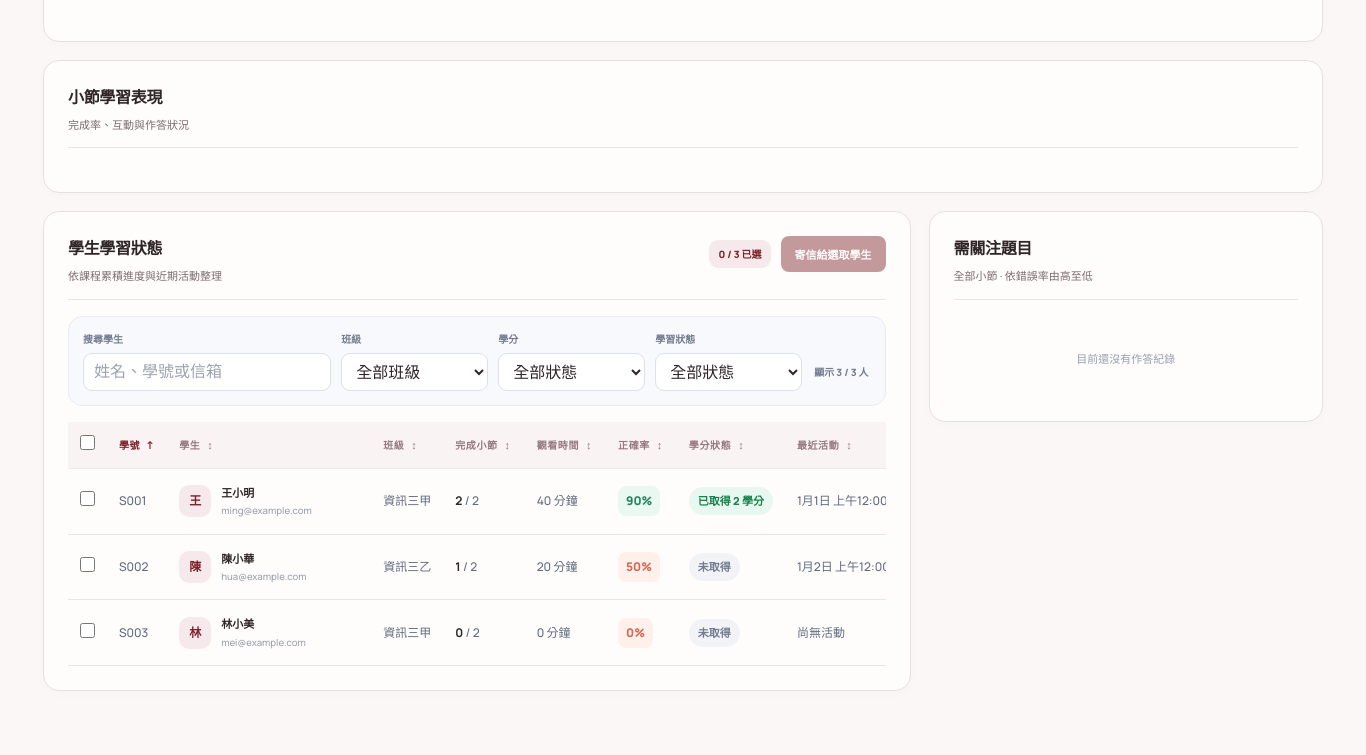
Scenario: filters students by class, credit status, learning status, and keyword
(page scrolled)
Expected: the text "王小明" is shown, [221,485,254,500]
Select "資訊三甲" in the dropdown labelled "班級". click: [415, 372]
box: [341,353,488,391]
(page scrolled)
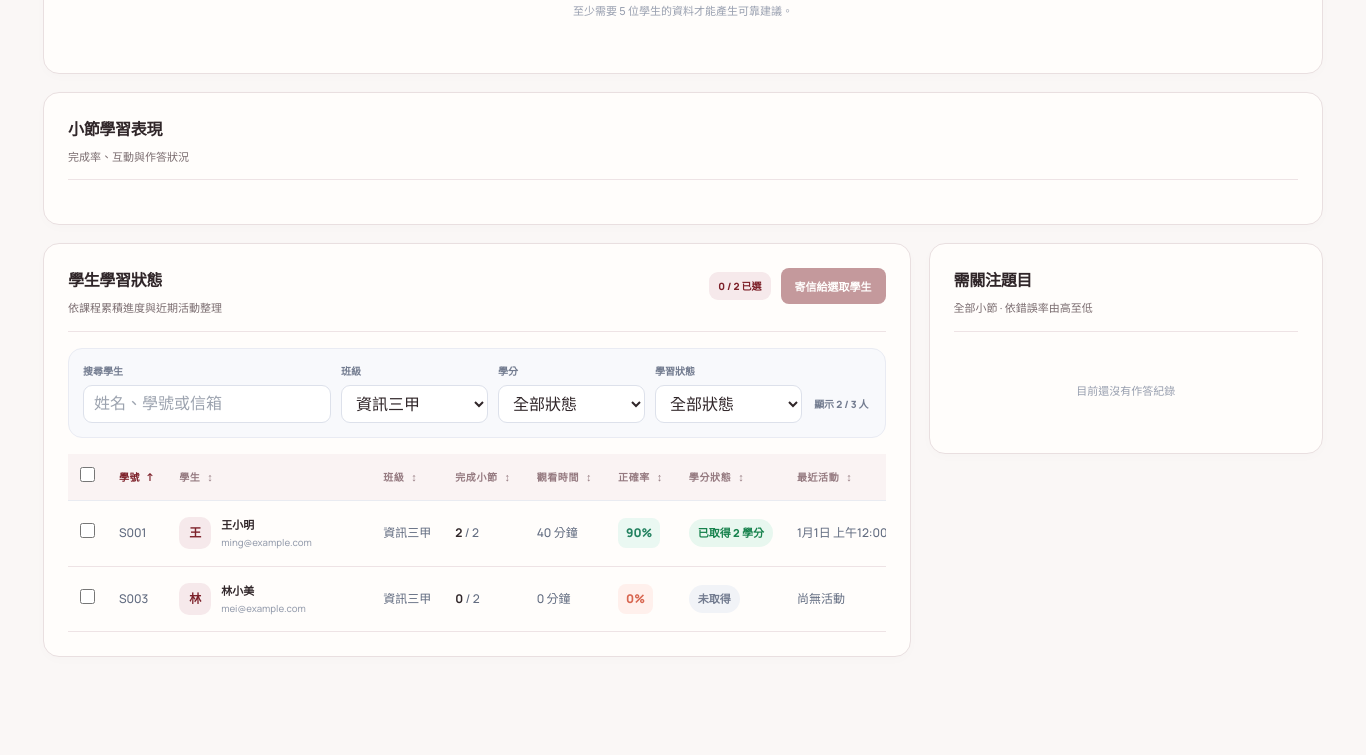
Expected: the text "王小明" is shown, [221,517,254,532]
Now the text "陳小華" is gone
Select "未取得學分" in the dropdown labelled "學分". click: [572, 404]
box: [498,385,645,423]
(page scrolled)
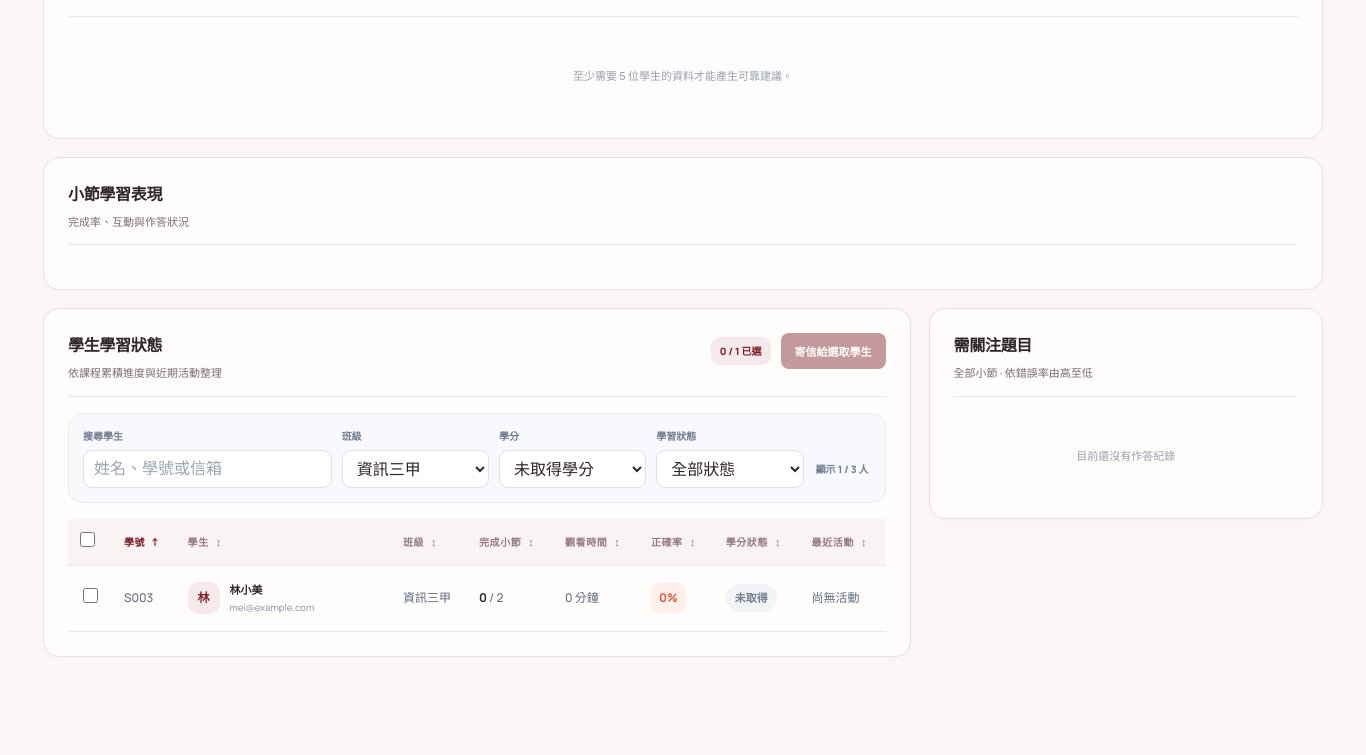
Expected: the text "林小美" is shown, [230,582,263,597]
Now the text "王小明" is gone
Select "尚未開始" in the dropdown labelled "學習狀態". click: [730, 469]
box: [656,450,804,488]
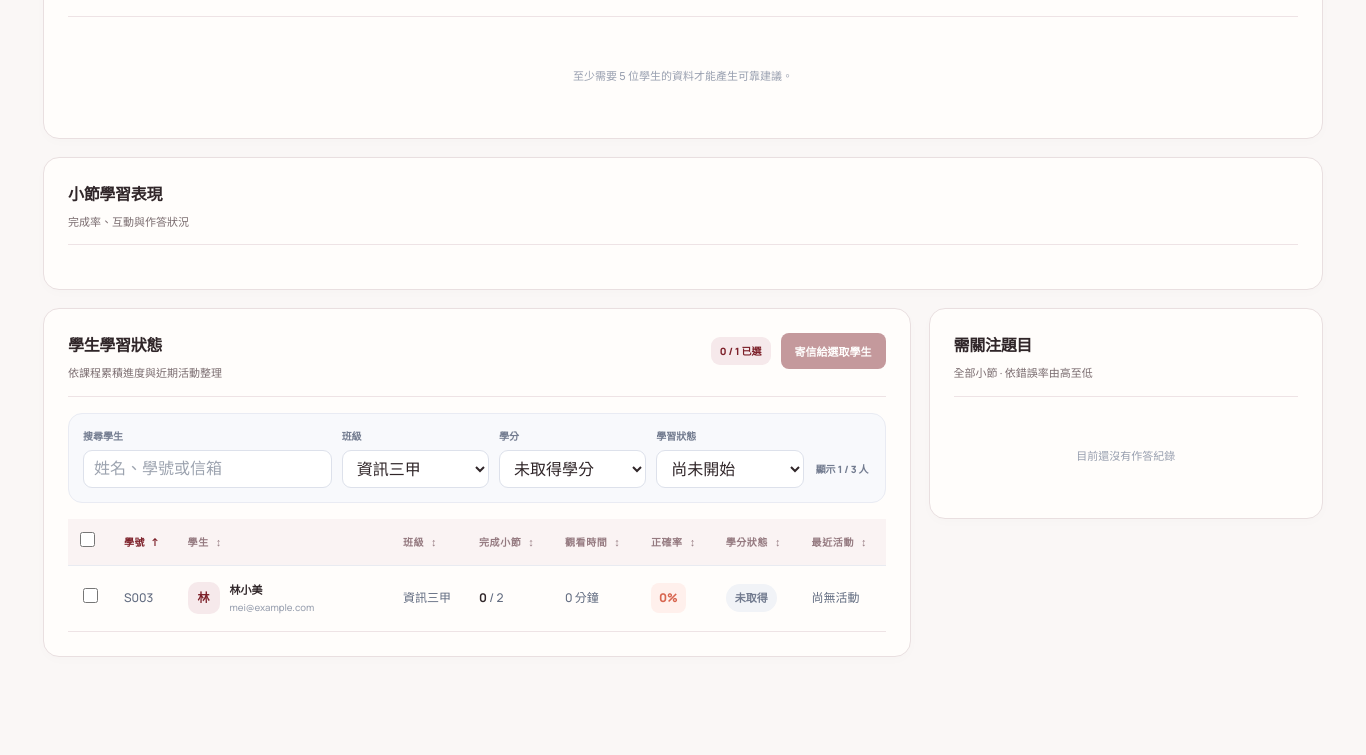
Expected: the text "林小美" is shown, [230,582,263,597]
Now the text "顯示 1 / 3 人" is shown, box [816,462,869,476]
Type "S999" into the search field labelled "搜尋學生". click: [207, 469]
box: [83,450,332,488]
(page scrolled)
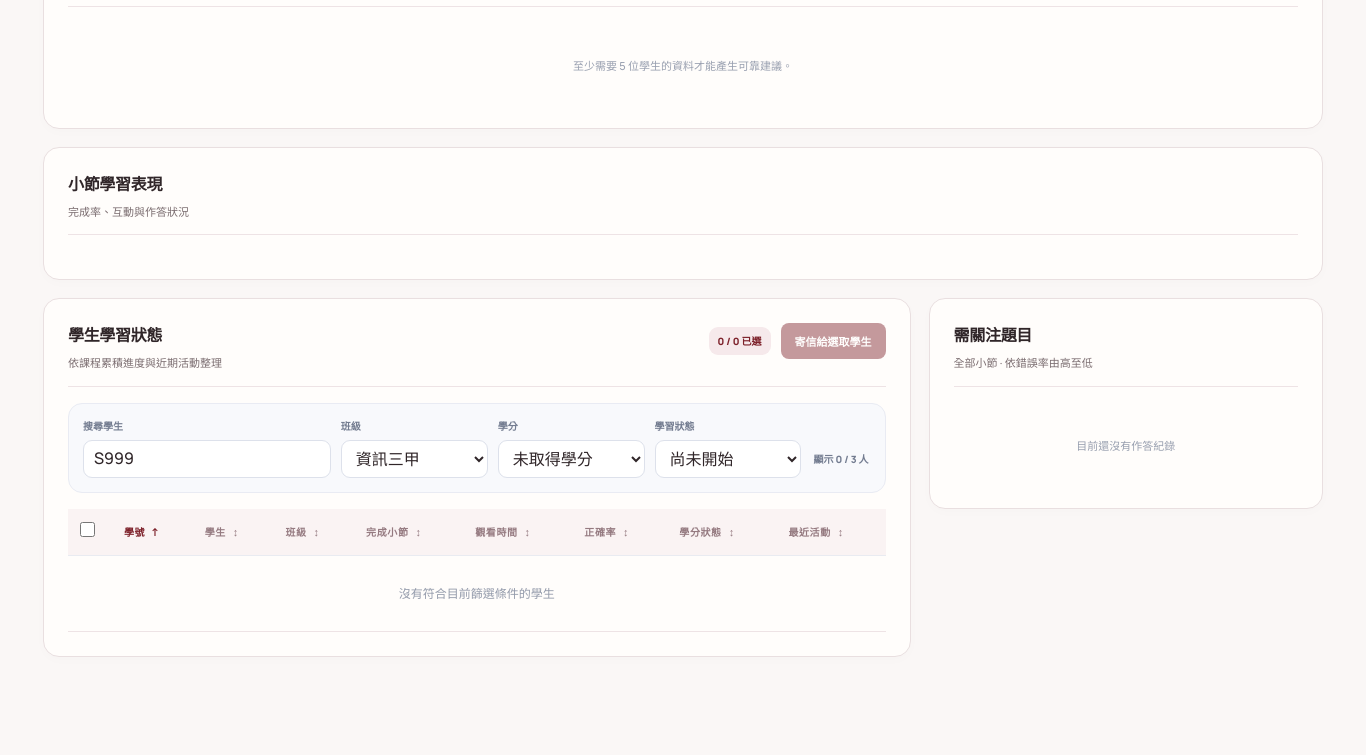
Now the text "沒有符合目前篩選條件的學生" is shown, box [68,555,886,631]
